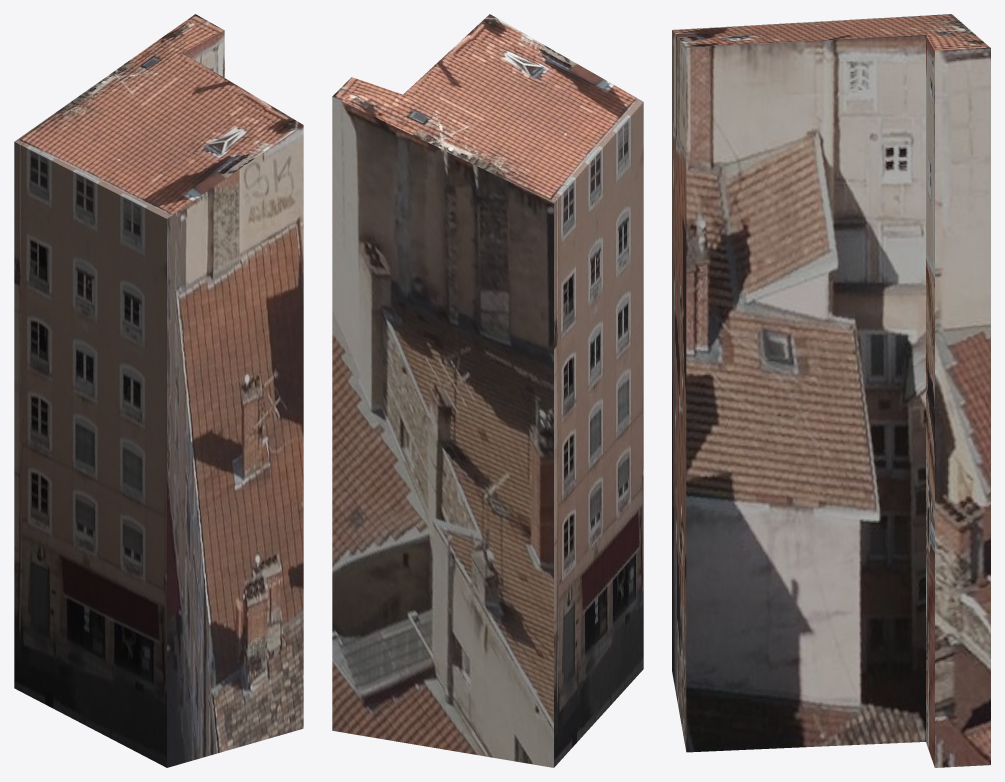
3 renders of one model, left to right at view 1: azimuth 30°, elevation 25°; view 2: azimuth 150°, elevation 25°; view 3: azimuth 270°, elevation 25°, orthographic. The views are drawn at different scales.
Visible parts, largest first — view 1: Z_UP; view 2: Z_UP; view 3: Z_UP.
Part boxes in pixels (box(x1,y1,x2,y2)): Z_UP: box(14, 14, 303, 767); Z_UP: box(332, 14, 643, 767); Z_UP: box(672, 14, 990, 767).
Size of the model in its own units: 9.08 by 26.24 by 10.58.
2 materials, 1 textured.
